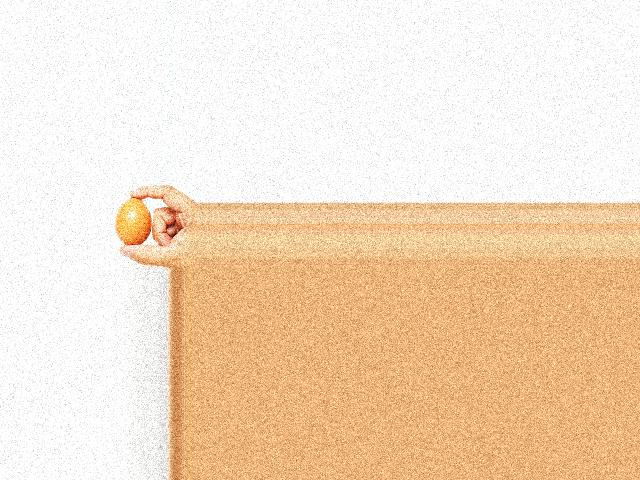egg: (114, 197, 151, 245)
